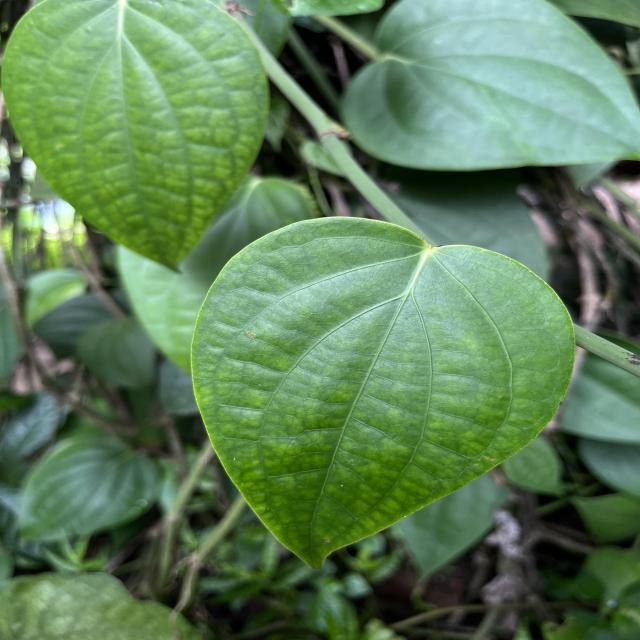Piper nigrum: (188, 214, 578, 574)
